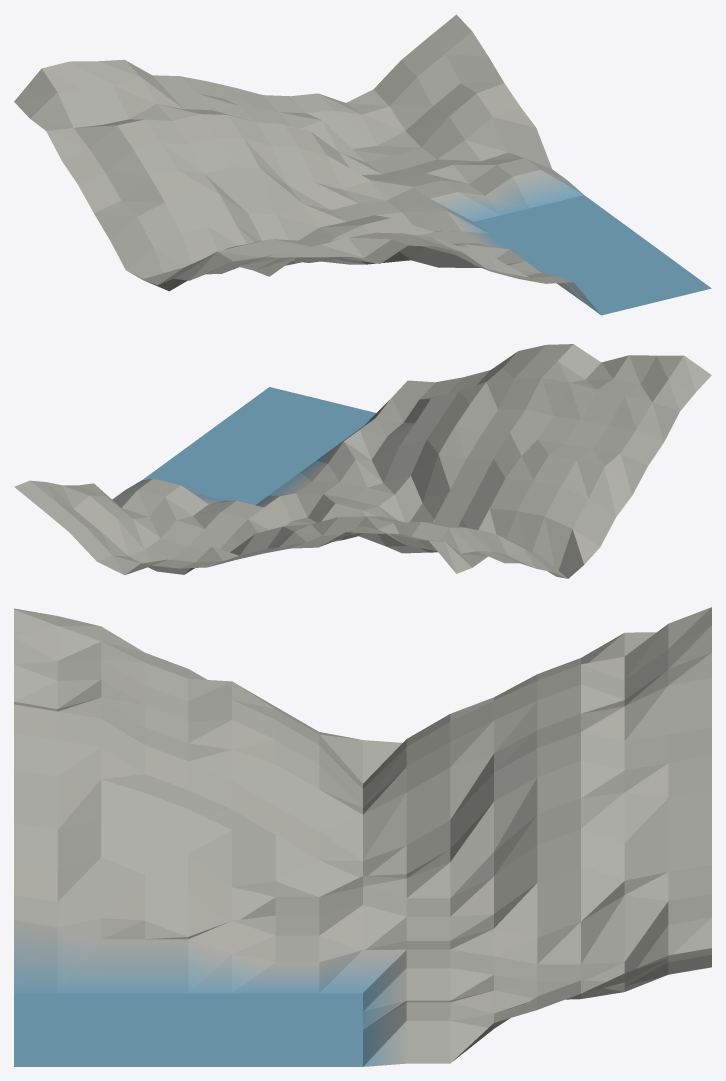
3 renders of one model, top to bottom at view 1: azimuth 30°, elevation 25°; view 2: azimuth 150°, elevation 25°; view 3: azimuth 270°, elevation 25°, orthographic. The views are drawn at different scales.
Size of the model in its own units: 32 by 9.29 by 32.
